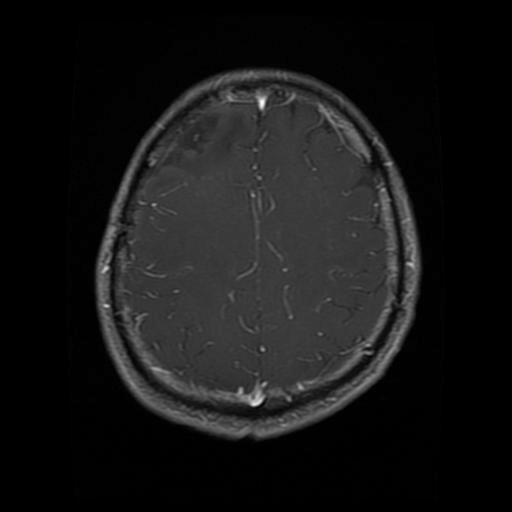Tumour-Glioma: (169, 106, 263, 177)
